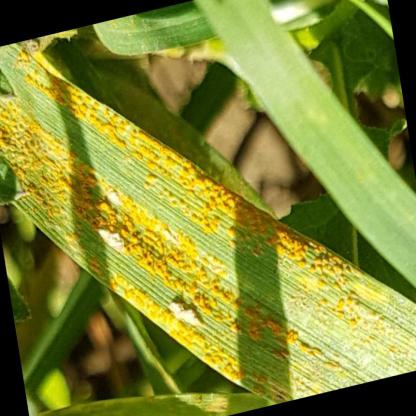Wheat-Yellow-rust: (264, 287, 375, 381), (174, 242, 255, 336), (71, 179, 168, 257), (2, 53, 34, 190), (38, 76, 67, 223), (181, 168, 205, 210), (108, 262, 167, 279), (209, 192, 234, 232), (136, 283, 169, 313), (278, 232, 307, 266), (99, 109, 119, 143), (125, 131, 146, 159), (314, 256, 337, 281), (74, 148, 94, 176), (154, 150, 176, 174), (70, 96, 92, 118), (344, 264, 355, 280)
